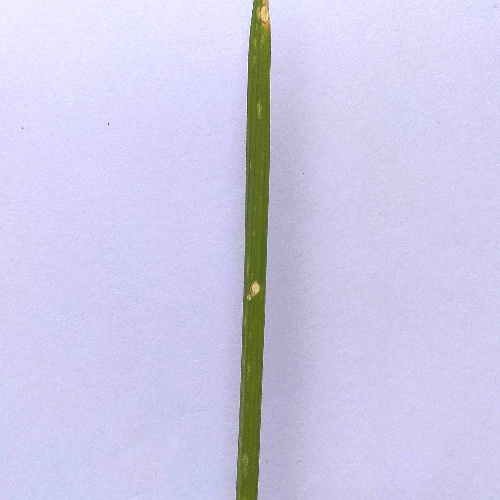Busuk Leher: (235, 272, 265, 303), (250, 1, 282, 26)
